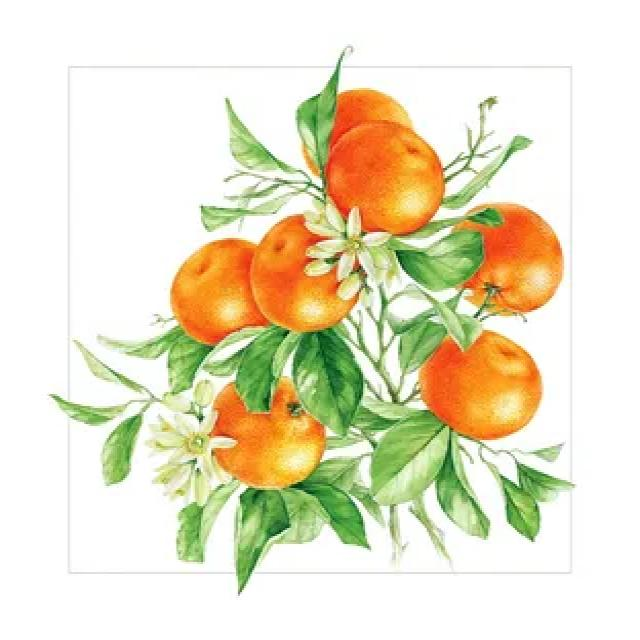orange: (199, 364, 341, 496), (419, 325, 546, 449), (319, 132, 449, 236)
